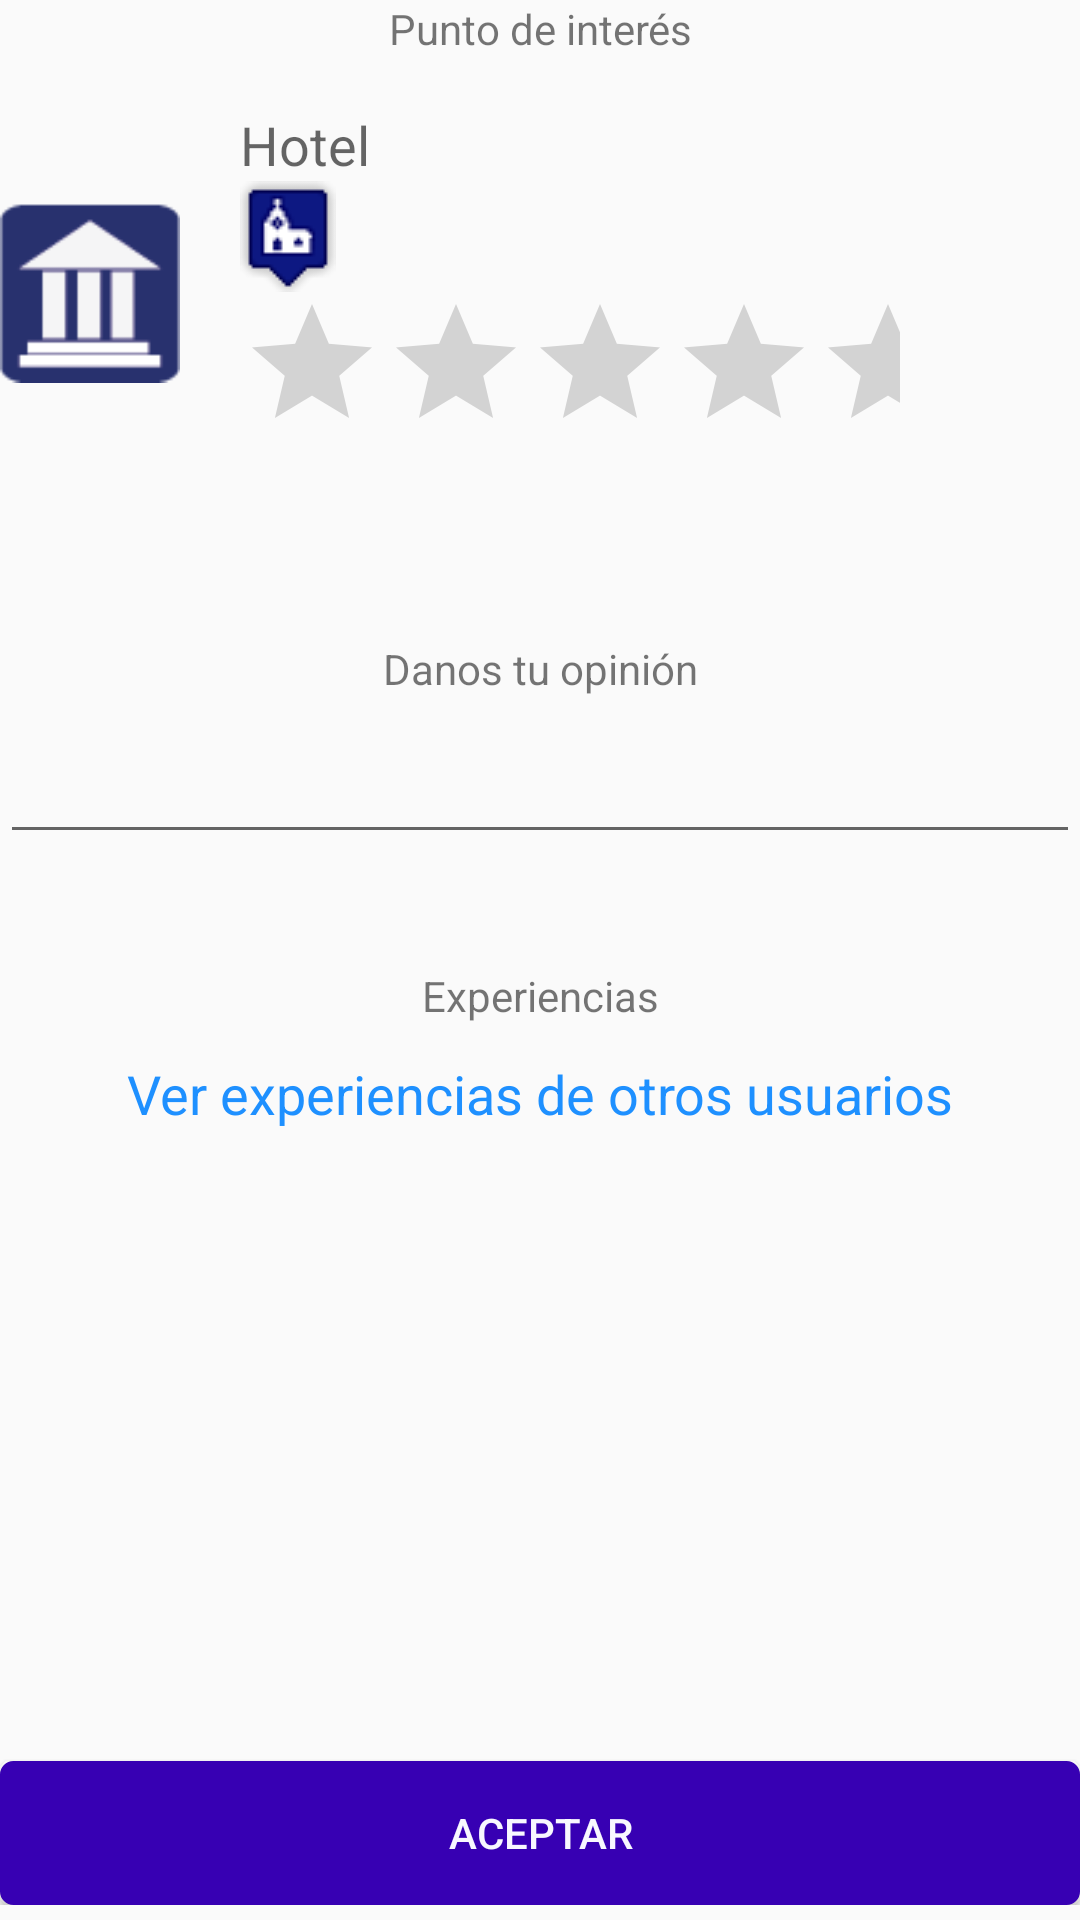

Named icons in this screenshot (1080w x 1920h) and their bounding boxes, (x1, y1, x2, y2):
culture: (0, 204, 180, 383)
culture cathedral: (244, 185, 332, 288)
